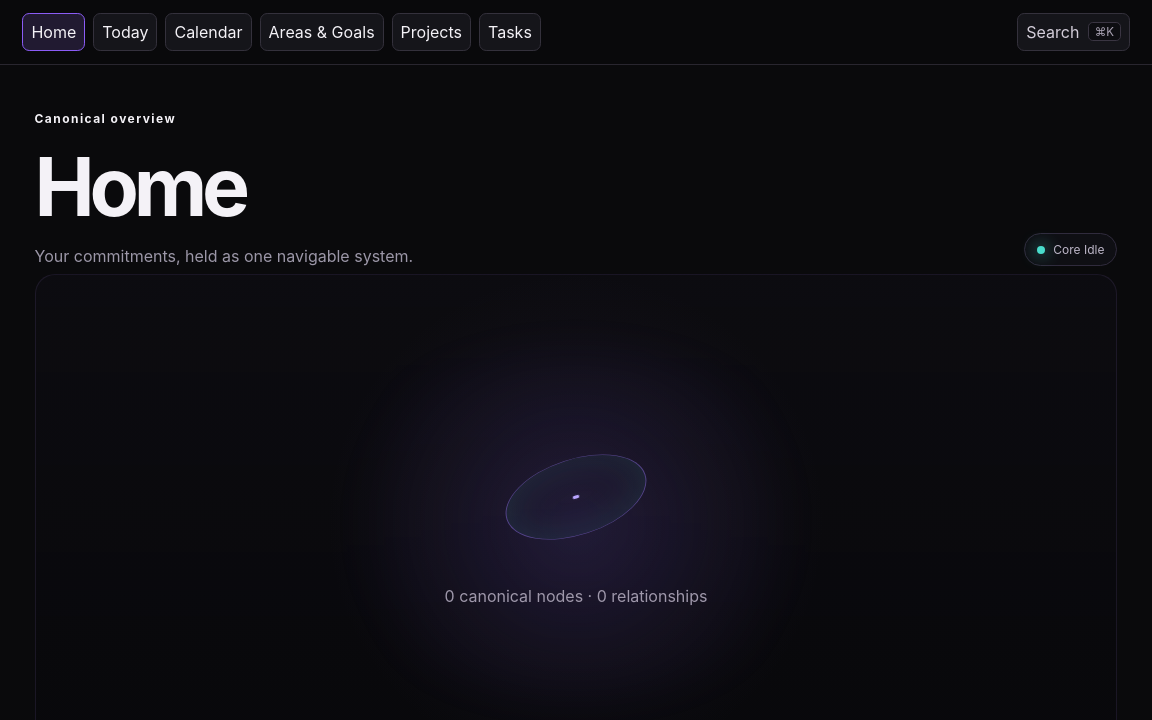
hydrates all persisted organizer data before mounting any workspace
Click the button "Areas & Goals".
click(322, 32)  # box left=260, top=13, right=384, bottom=51
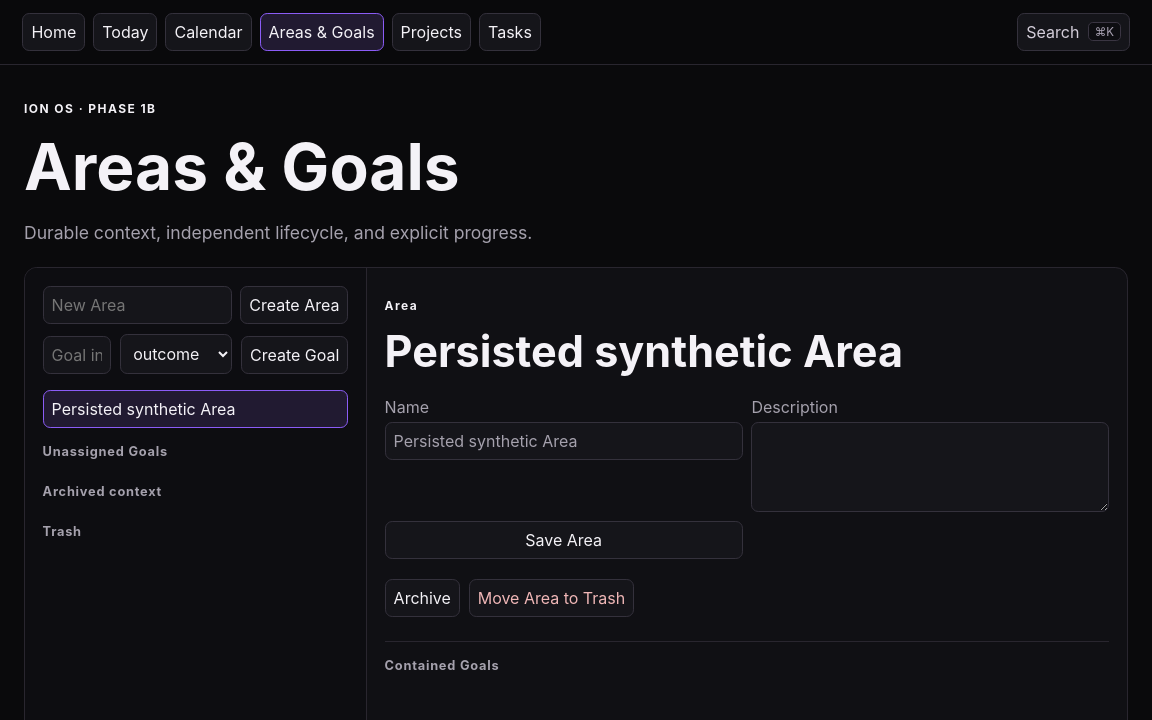
Expected: the number of buttons "Persisted synthetic Area" is 2, left=43, top=390, right=348, bottom=428; left=385, top=325, right=903, bottom=377
Click the button "Tasks".
click(510, 32)  # box left=479, top=13, right=541, bottom=51
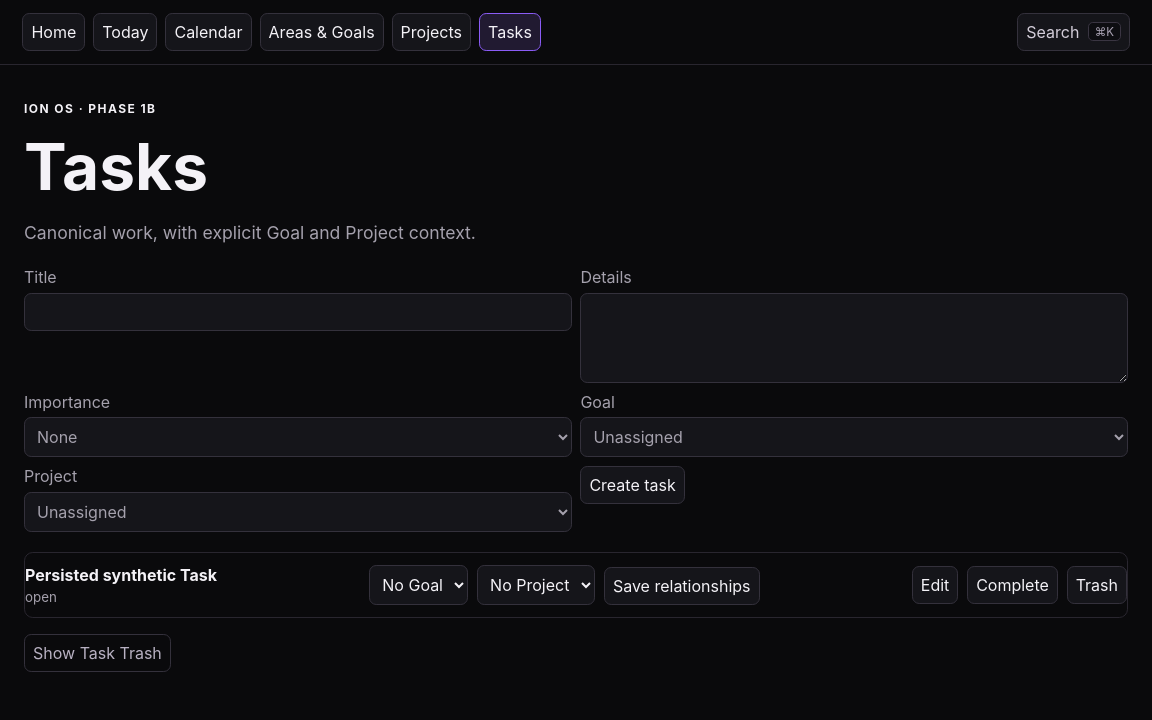
Expected: the text "Persisted synthetic Task" is shown, left=25, top=565, right=217, bottom=585
